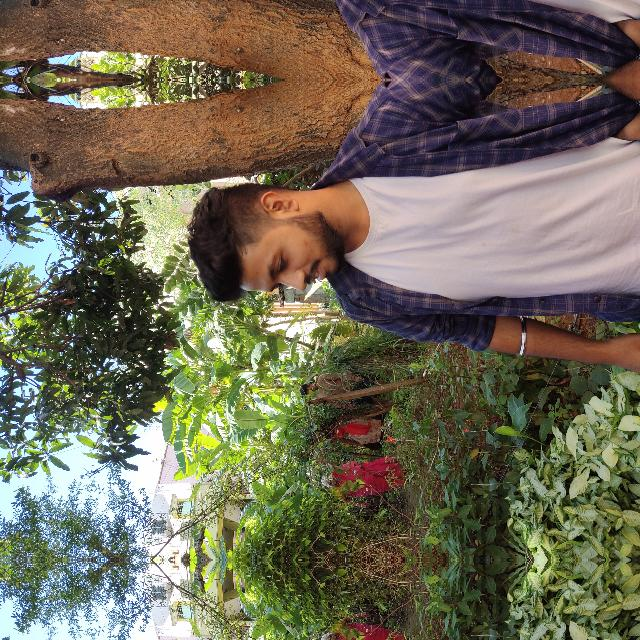person: (194, 252, 480, 640), (194, 400, 480, 640)
